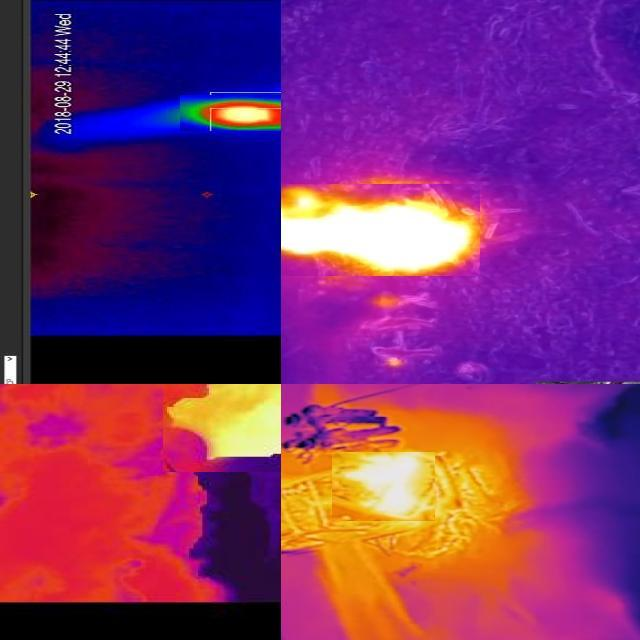fire: (282, 183, 481, 275), (170, 385, 281, 461), (333, 452, 436, 521), (181, 95, 282, 131)
